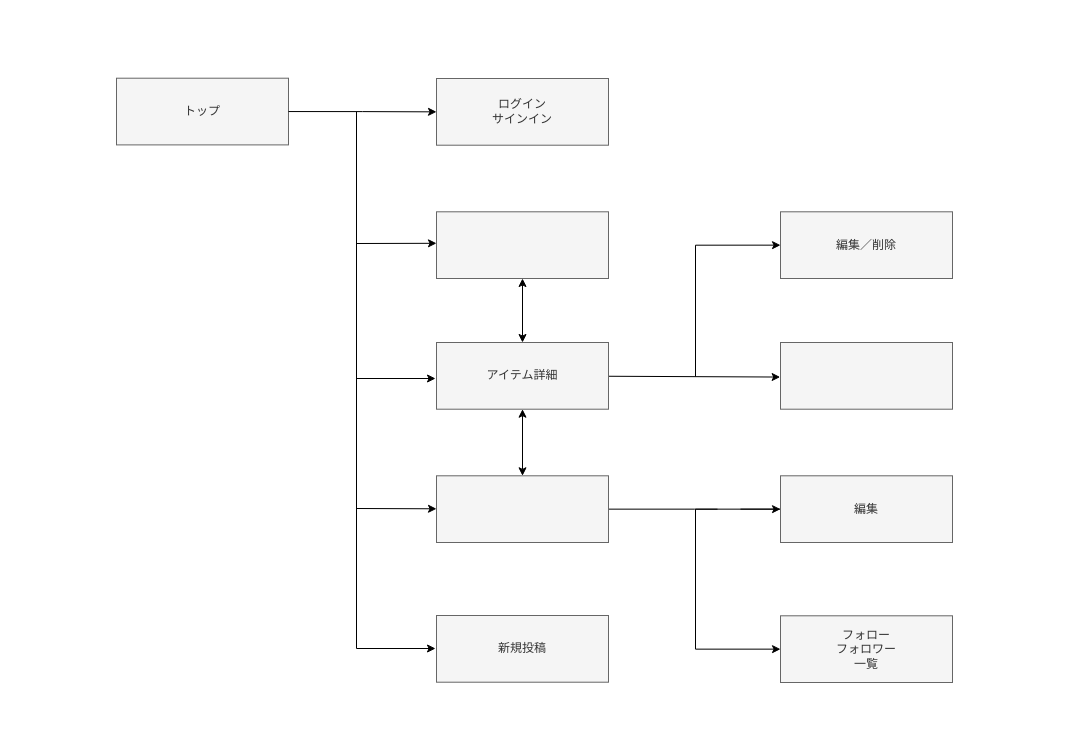
Image size: 1074x756. Some labels were removed from this diagram. The shapes that lost their labels are listed below. From the top down, each one's centre as x and y in pixels, then its label:
At point 522,244: "検索一覧".
At point 866,375: "コメント".
At point 522,508: "マイページ".
